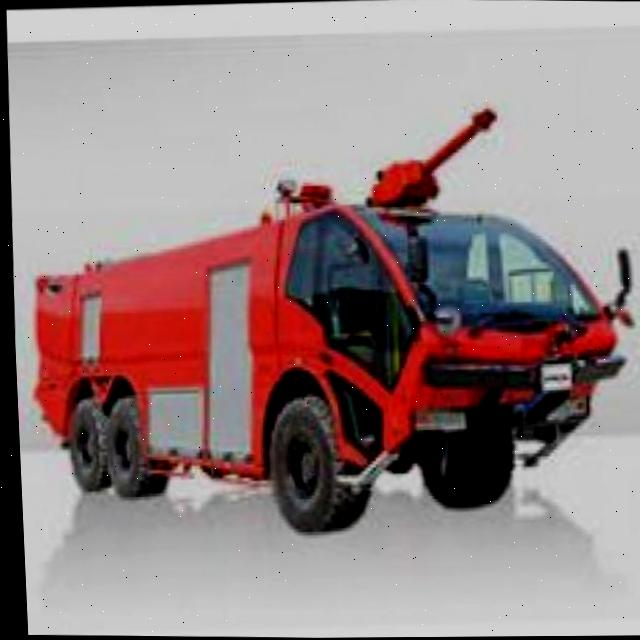emergency: (15, 96, 640, 540)
